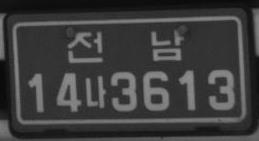1: (24, 72, 49, 113), (177, 69, 200, 111)
3: (207, 68, 236, 111), (109, 70, 137, 112)
4: (55, 72, 82, 113)
6: (142, 69, 170, 111)
나: (85, 74, 107, 109)
전남_D: (66, 26, 184, 64)
